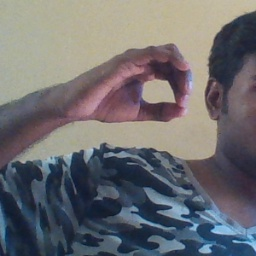O: (69, 39, 195, 128)
